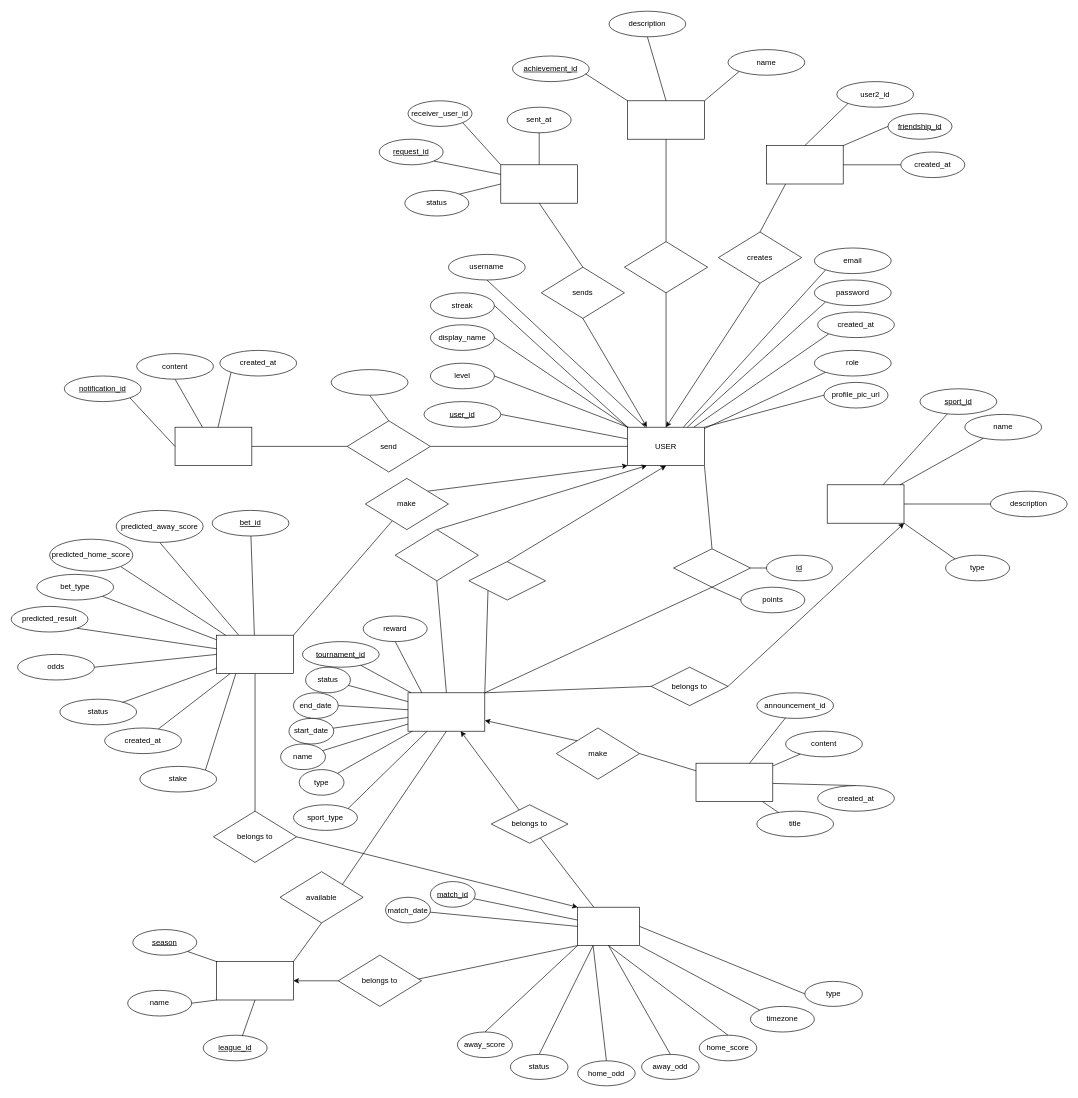
The diagram is 1078 pixels wide and 1098 high, and some of its shapes have lost their labels. The shapes that lost their labels are listed below. From the top down, each one's centre as x and y in pixels, then its label:
At (665,119): "ACHIEVEMENT".
At (539,183): "FRIEND_REQUEST".
At (804,164): "FRIENDSHIP".
At (666,267): "earns".
At (369,382): "is_read".
At (213,446): "NOTIFICATION".
At (865,503): "SPORT".
At (436,555): "create".
At (711,567): "participate".
At (507,580): "winner".
At (254,654): "BET".
At (446,711): "TOURNAMENT".
At (734,782): "ANNOUNCEMENT".
At (608,926): "MATCH".
At (254,980): "LEAGUE".
